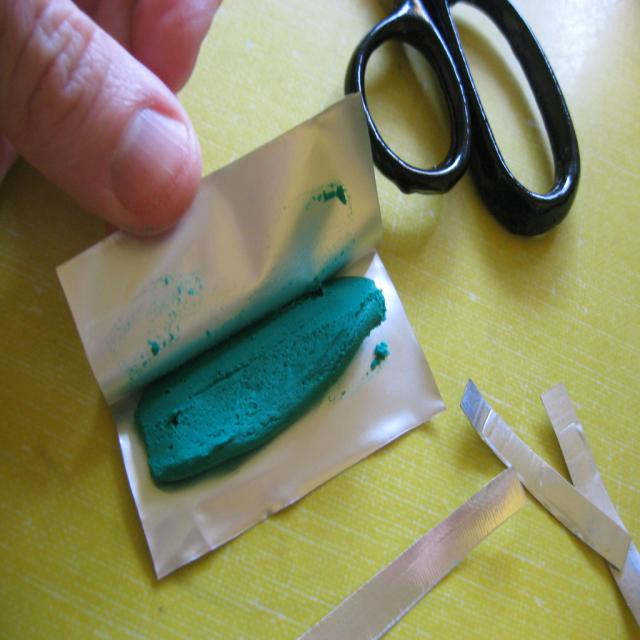scissors: (344, 0, 580, 237)
